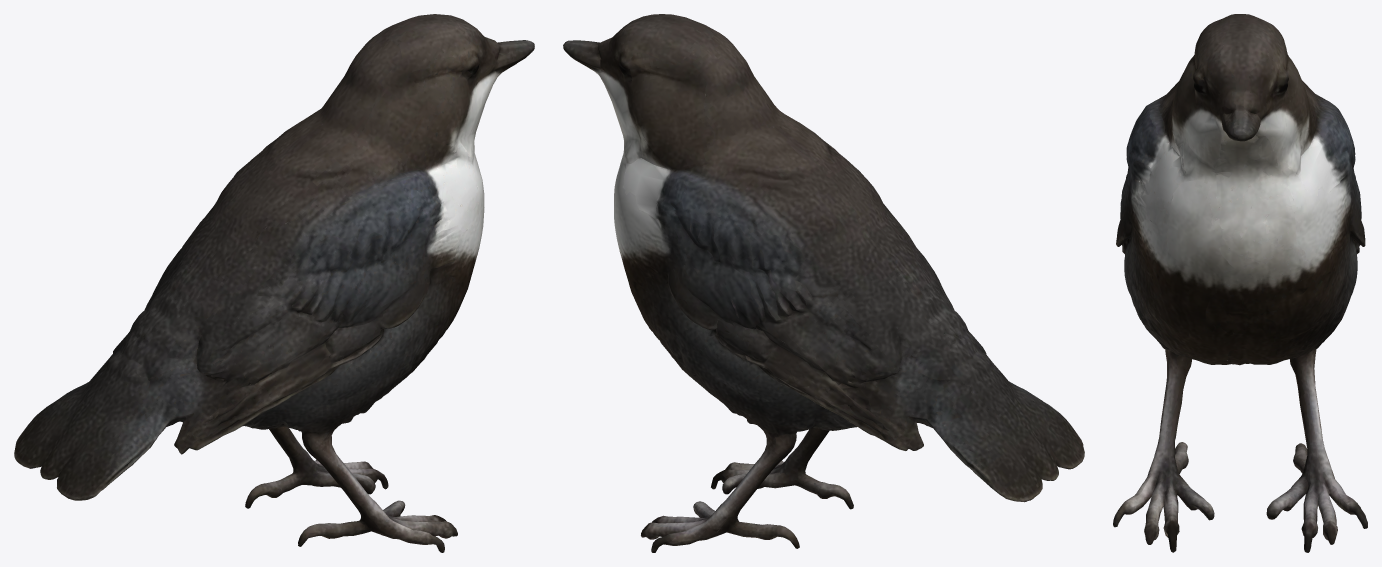
The model's file is white-throated-dipper-v21-lod.glb.
The picture shows the model from 3 angles, left to right: view 1: azimuth 30°, elevation 25°; view 2: azimuth 150°, elevation 25°; view 3: azimuth 270°, elevation 25°; orthographic projection. The views are drawn at different scales.
Visible parts, largest first — view 1: world; view 2: world; view 3: world.
Boxes of the visible parts, left/top/right/bottom form: world: left=14, top=14, right=534, bottom=552; world: left=563, top=14, right=1084, bottom=552; world: left=1113, top=14, right=1367, bottom=552.
Size of the model in its own units: 0.1998 by 0.1898 by 0.0823.
1 material, 1 textured.
